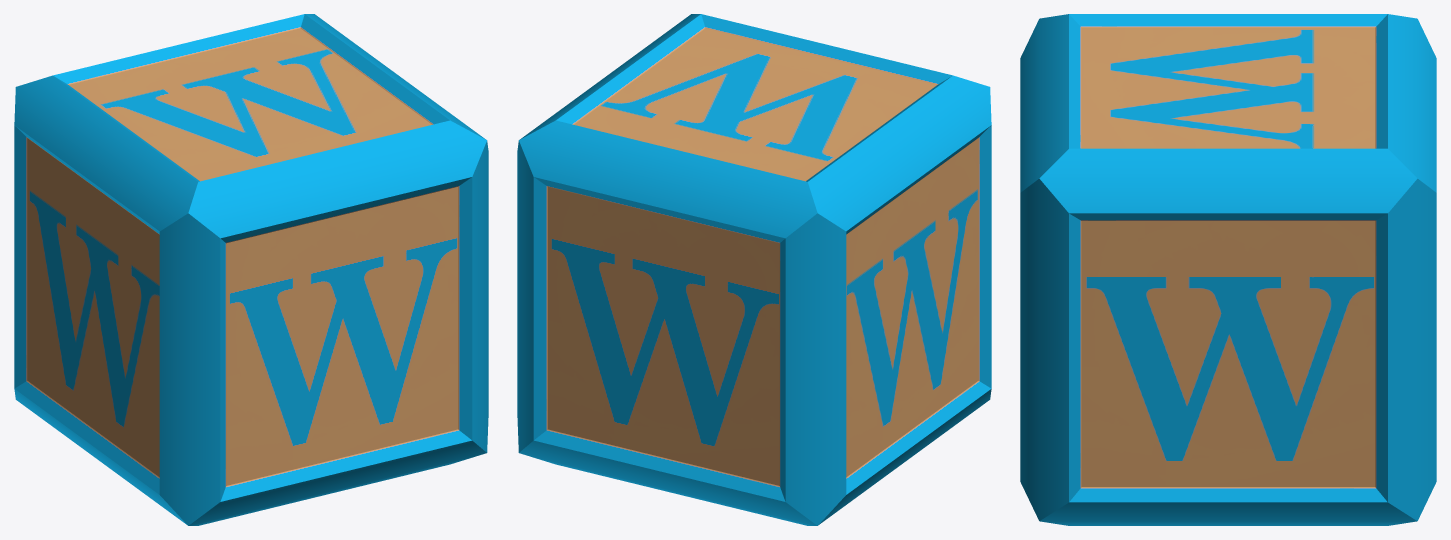
3 renders of one model, left to right at view 1: azimuth 30°, elevation 25°; view 2: azimuth 150°, elevation 25°; view 3: azimuth 270°, elevation 25°, orthographic. The views are drawn at different scales.
Visible parts, largest first — view 1: pCube1; view 2: pCube1; view 3: pCube1.
Part boxes in pixels (box(x1,y1,x2,y2)): pCube1: box(14, 14, 488, 525); pCube1: box(517, 14, 991, 525); pCube1: box(1020, 14, 1436, 525).
Size of the model in its own units: 0.4114 by 0.4114 by 0.4114.
1 material, 1 textured.
